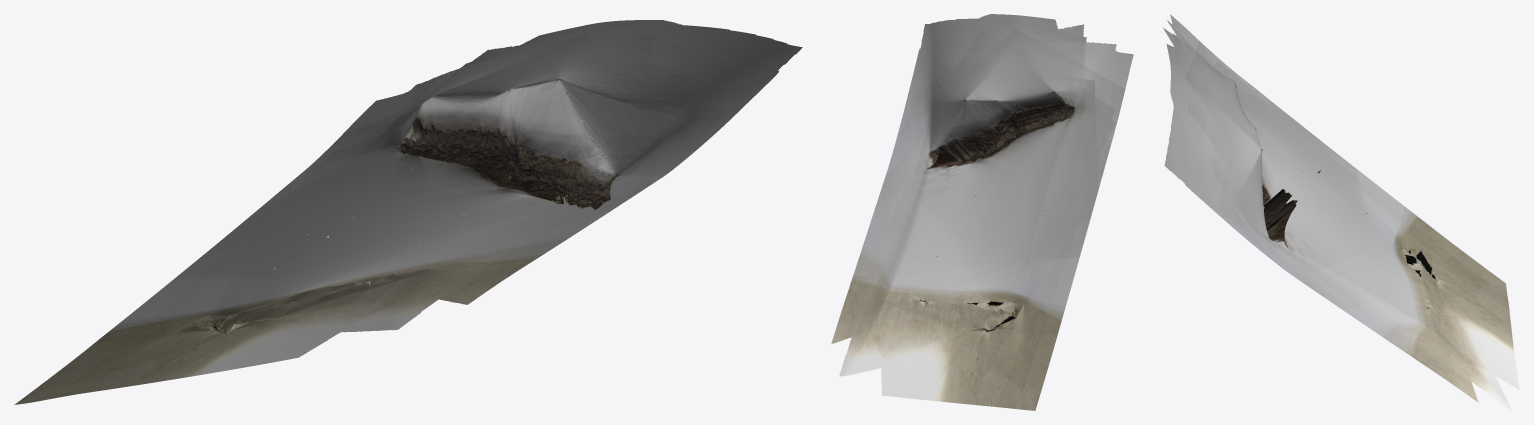
Rendered from wood.obj.
The picture shows the model from 3 angles, left to right: view 1: azimuth 30°, elevation 25°; view 2: azimuth 150°, elevation 25°; view 3: azimuth 270°, elevation 25°; orthographic projection. The views are drawn at different scales.
Bounding box in the file's own units: 16.54 × 17.27 × 16.85.
1 material, 1 textured.
